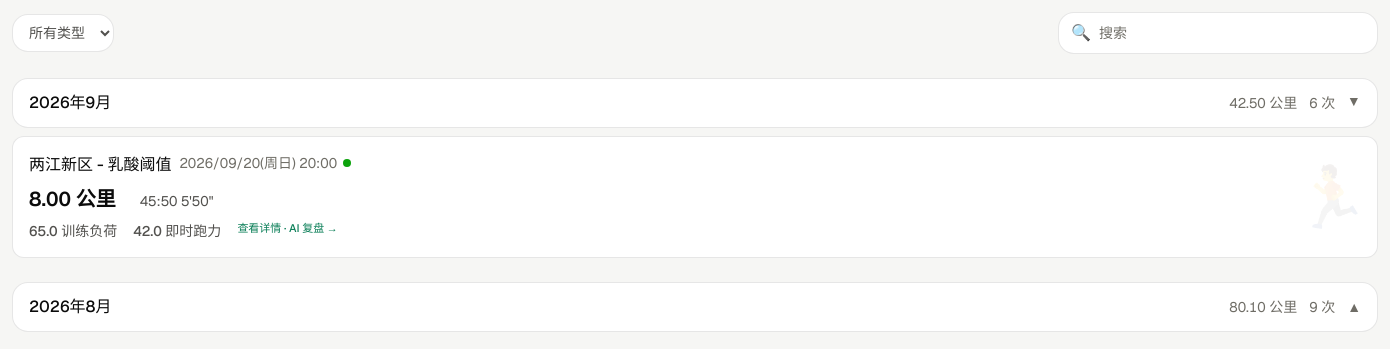
Test: ListClient 活动列表 (交互/筛选/无限滚动) › 收起已展开月份 (点击同一月份)
Click the button "2026年9月 42.50 公里 6 次 ▲".
click(70, 102)  # box 12,78 -> 1378,128
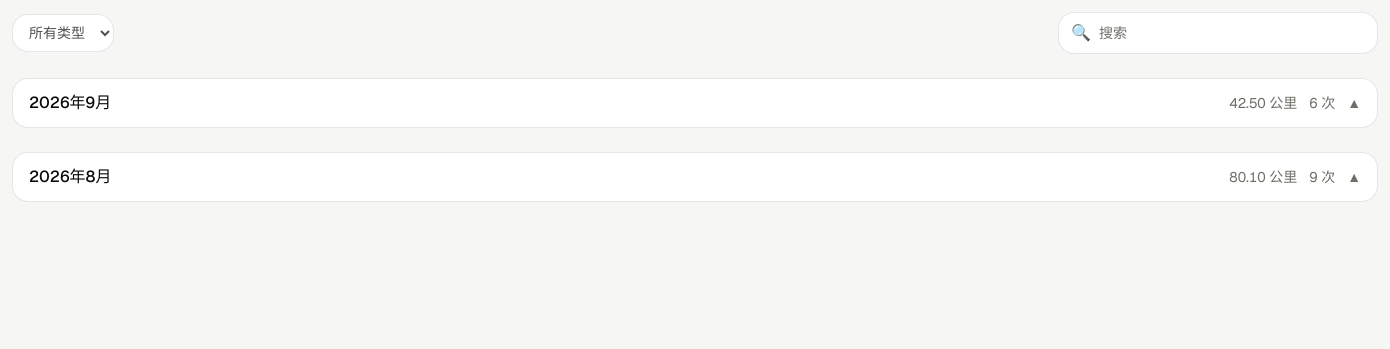
Expected: the button "2026年9月 42.50 公里 6 次 ▲" is collapsed, 12,78 -> 1378,128
Expected: the button "两江新区" is gone
